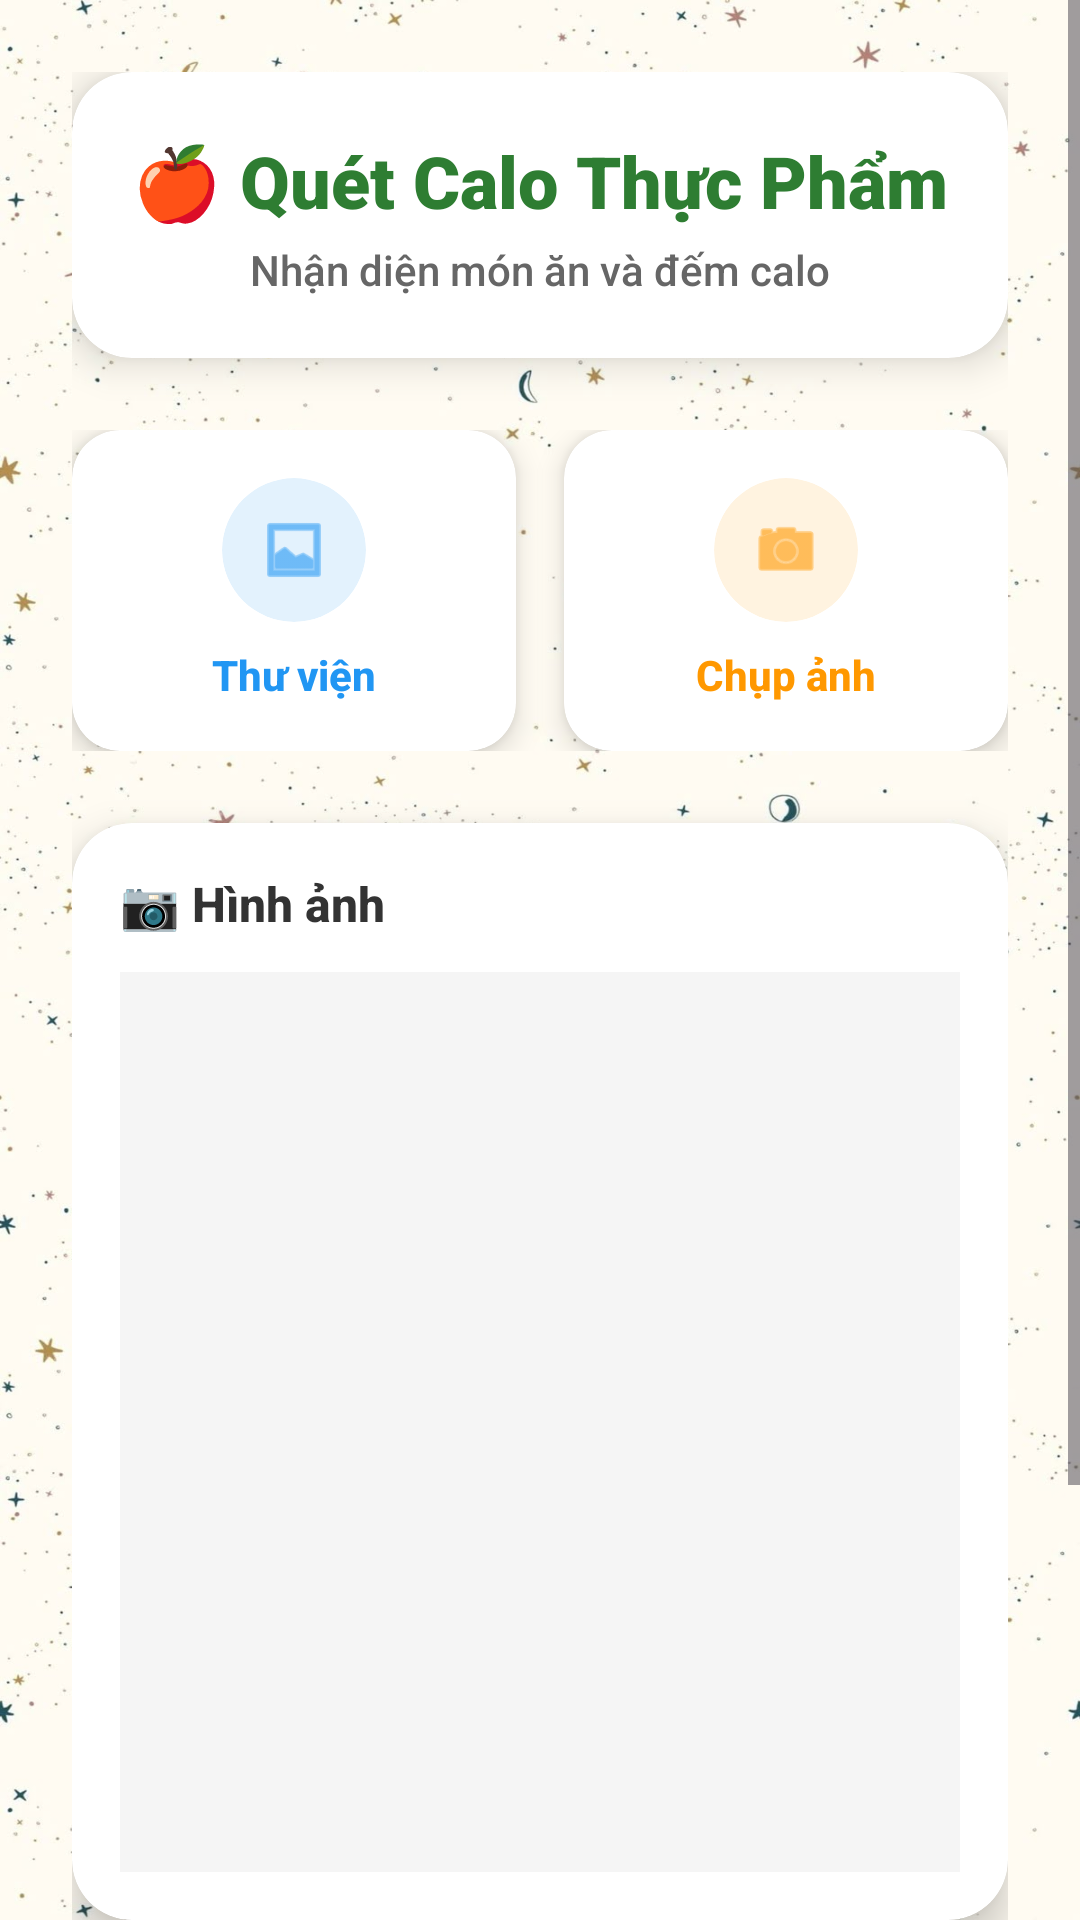

Named icons in this screenshot (1080×1920) and their bounding boxes, (left=x1, top=y1, right=x2, bottom=y2):
camera: (left=758, top=527, right=814, bottom=571)
gallery: (left=267, top=523, right=321, bottom=577)
